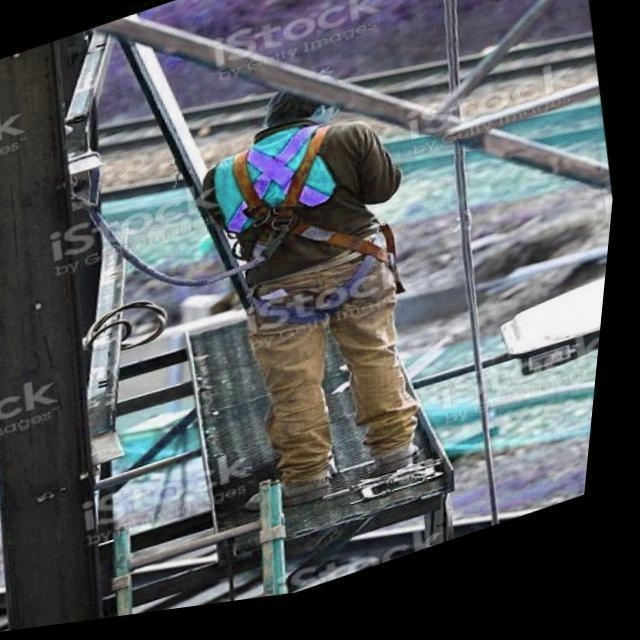safety belt: (197, 124, 418, 334)
